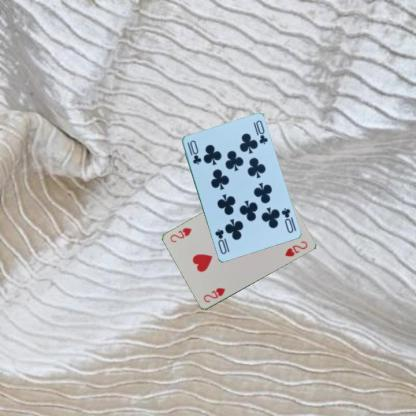10c: (184, 138, 202, 165), (279, 205, 294, 234)
2h: (201, 285, 227, 304)
